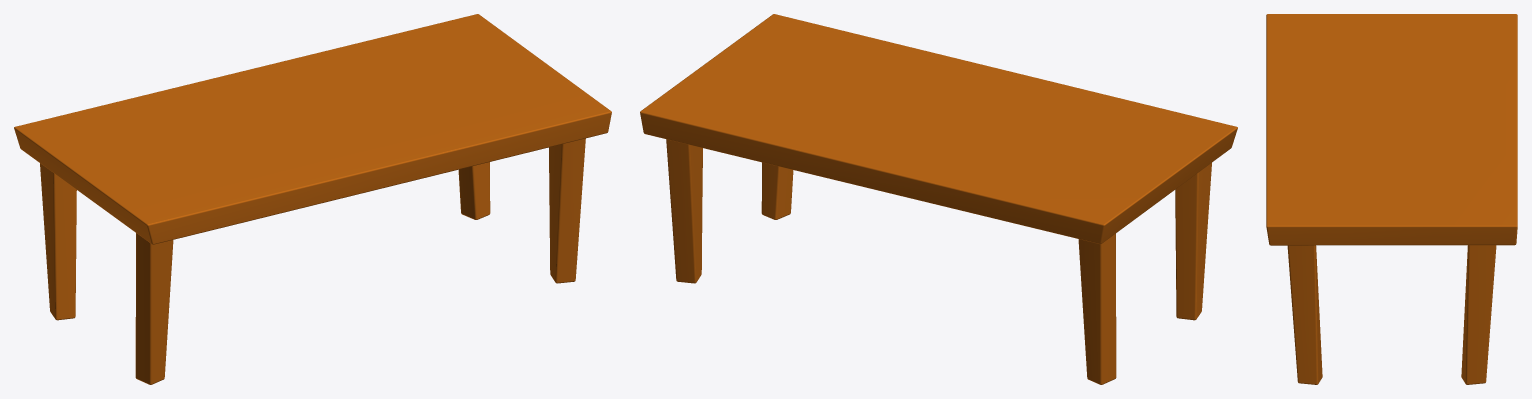
The model's file is Table.glb.
The picture shows the model from 3 angles, left to right: view 1: azimuth 30°, elevation 25°; view 2: azimuth 150°, elevation 25°; view 3: azimuth 270°, elevation 25°; orthographic projection. The views are drawn at different scales.
Parts seen in each view (by area): view 1: Table; view 2: Table; view 3: Table.
Boxes of the visible parts, <box> form: Table: <box>14,14,611,384</box>; Table: <box>640,14,1237,384</box>; Table: <box>1266,14,1517,384</box>.
Size of the model in its own units: 2 by 0.7316 by 0.9992.
